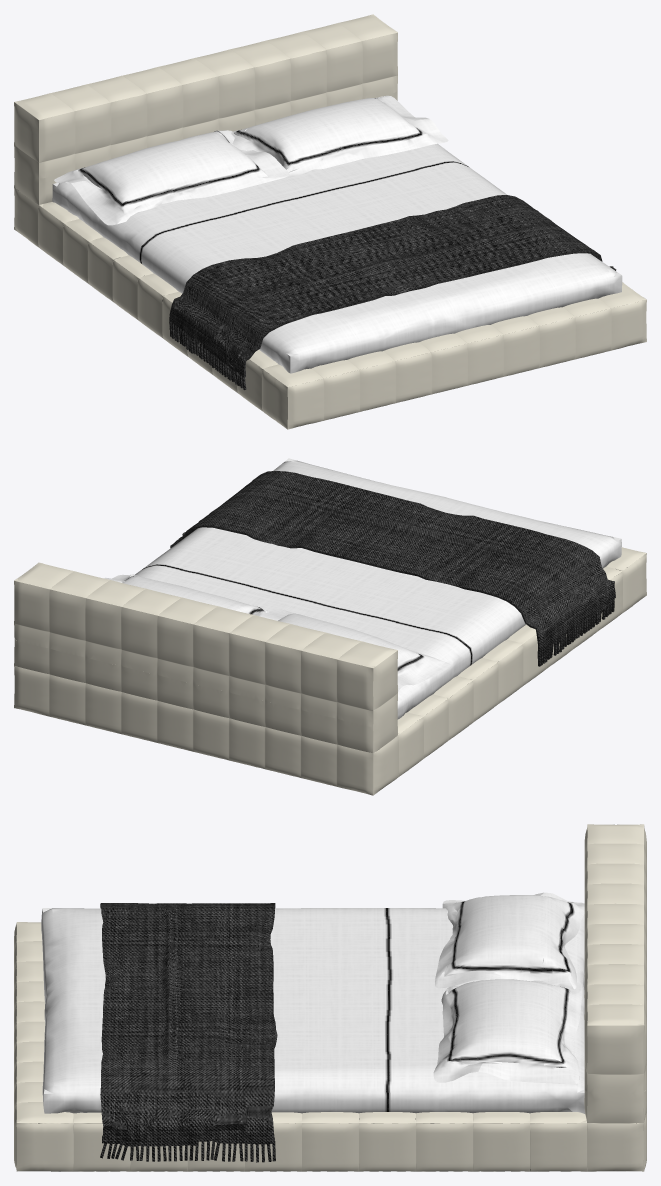
Rendered from bed_cream-colored_low_poly.glb.
3 renders of one model, top to bottom at view 1: azimuth 30°, elevation 25°; view 2: azimuth 150°, elevation 25°; view 3: azimuth 270°, elevation 25°, orthographic. The views are drawn at different scales.
Visible parts, largest first — view 1: aeneoclsbdg000005; view 2: aeneoclsbdg000005; view 3: aeneoclsbdg000005.
Boxes of the visible parts, x1,y1,x2,y2 form: aeneoclsbdg000005: [14, 14, 646, 429]; aeneoclsbdg000005: [14, 458, 646, 795]; aeneoclsbdg000005: [14, 824, 646, 1171].
Bounding box in the file's own units: 1.83 × 0.65 × 2.34.
1 material, 1 textured.
